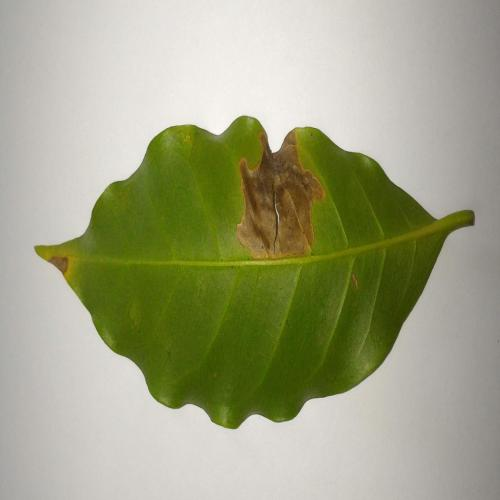leaf: (236, 124, 326, 262)
